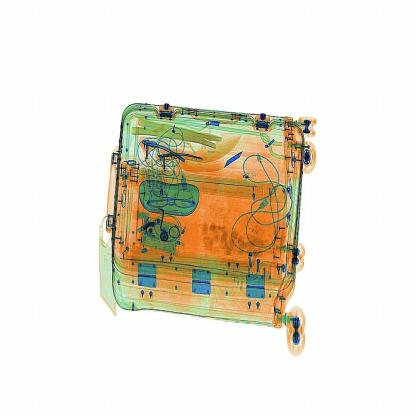pliers: (218, 144, 246, 172)
